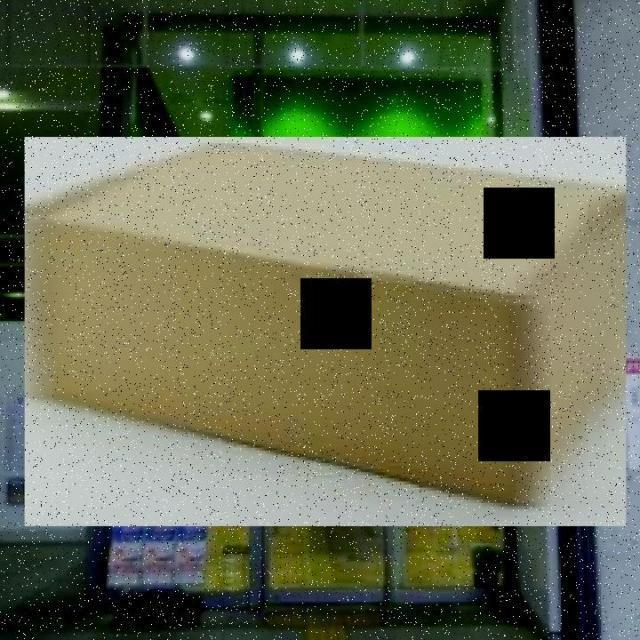box: (16, 130, 636, 534)
